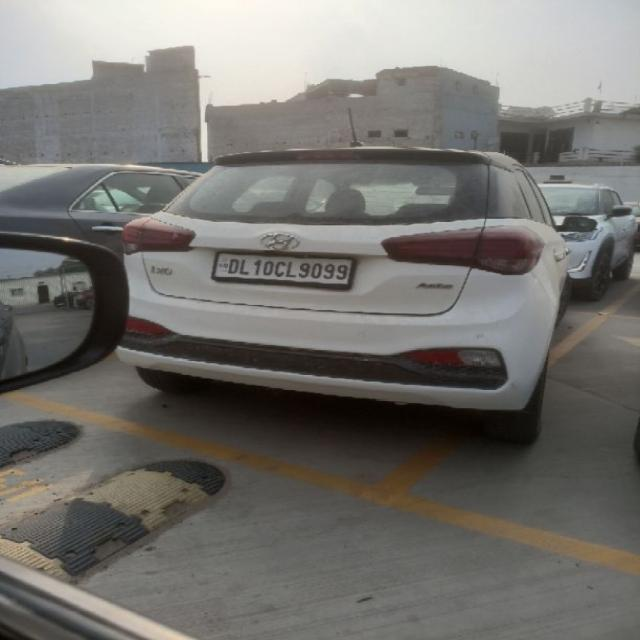license_plate: (210, 251, 356, 289)
